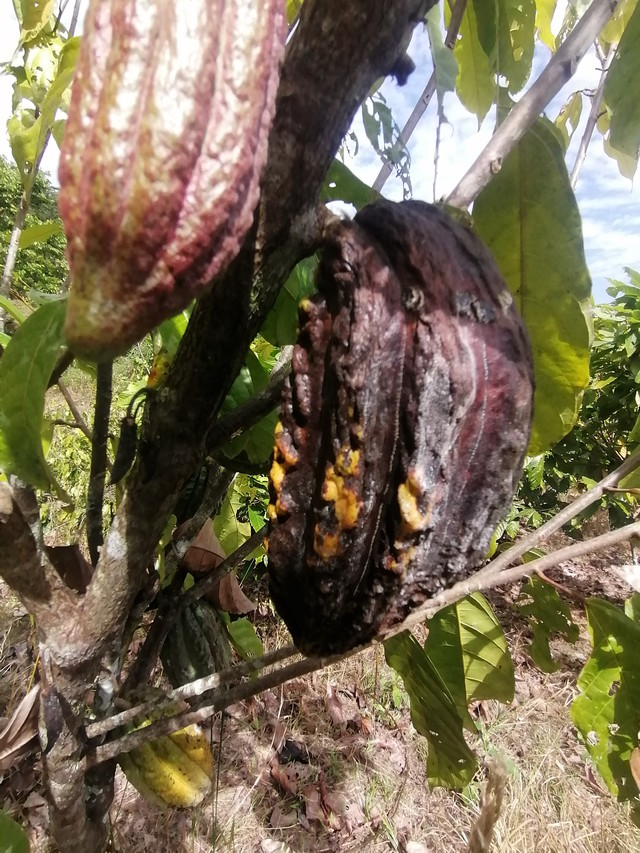moniliophthora roreri: (249, 186, 550, 671)
